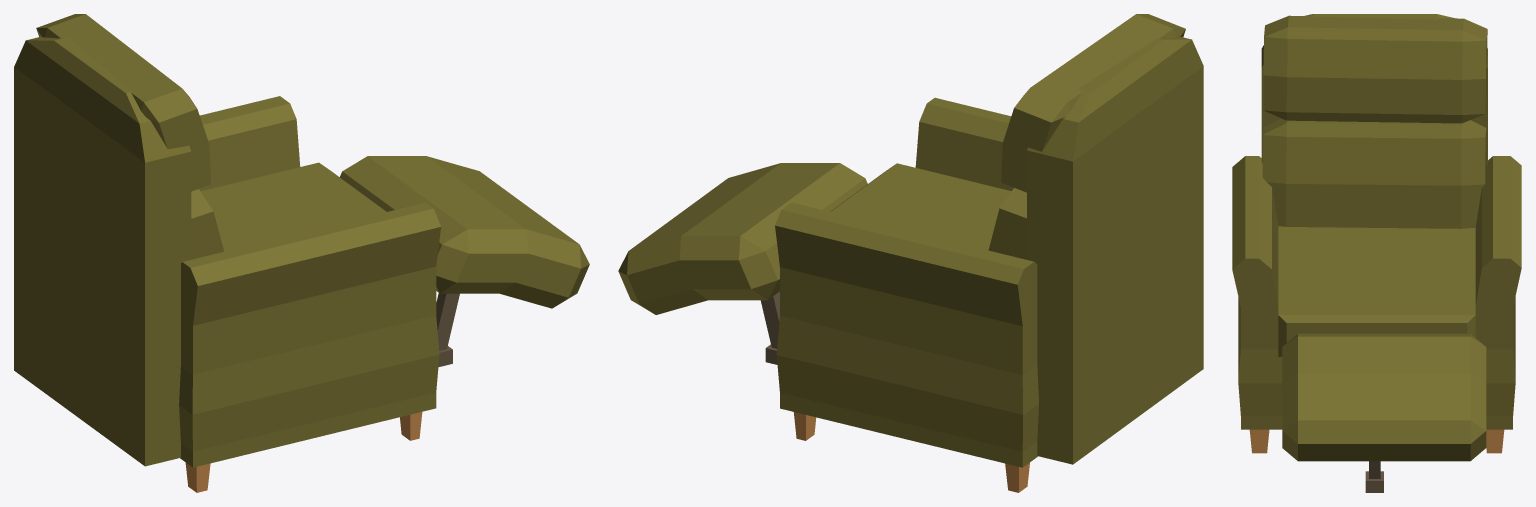
File: kreslo.fbx
3 views of the same model, side by side, from view 1: azimuth 30°, elevation 25°; view 2: azimuth 150°, elevation 25°; view 3: azimuth 270°, elevation 25° (orthographic). The views are drawn at different scales.
Visible parts, largest first — view 1: kreslo; view 2: kreslo; view 3: kreslo.
Boxes of the visible parts, x1,y1,x2,y2 form: kreslo: (14, 14, 589, 492); kreslo: (618, 14, 1203, 492); kreslo: (1232, 14, 1521, 492).
Size of the model in its own units: 1670 by 1328 by 1041.
